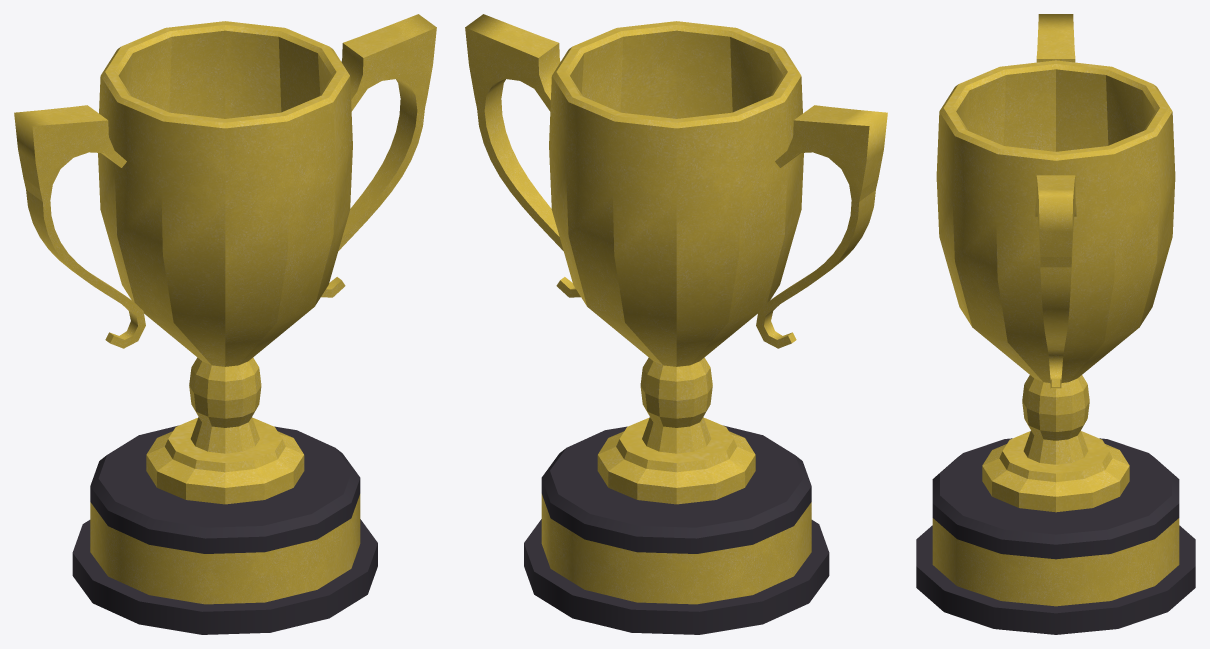
File: trophy.fbx
3 views of the same model, side by side, from view 1: azimuth 30°, elevation 25°; view 2: azimuth 150°, elevation 25°; view 3: azimuth 270°, elevation 25° (orthographic). The views are drawn at different scales.
Parts seen in each view (by area): view 1: pCylinder17; view 2: pCylinder17; view 3: pCylinder17.
Boxes of the visible parts, left/top/right/bottom form: pCylinder17: left=14, top=14, right=436, bottom=634; pCylinder17: left=465, top=14, right=887, bottom=634; pCylinder17: left=916, top=14, right=1195, bottom=634.
Size of the model in its own units: 0.268 by 0.3171 by 0.1714.
